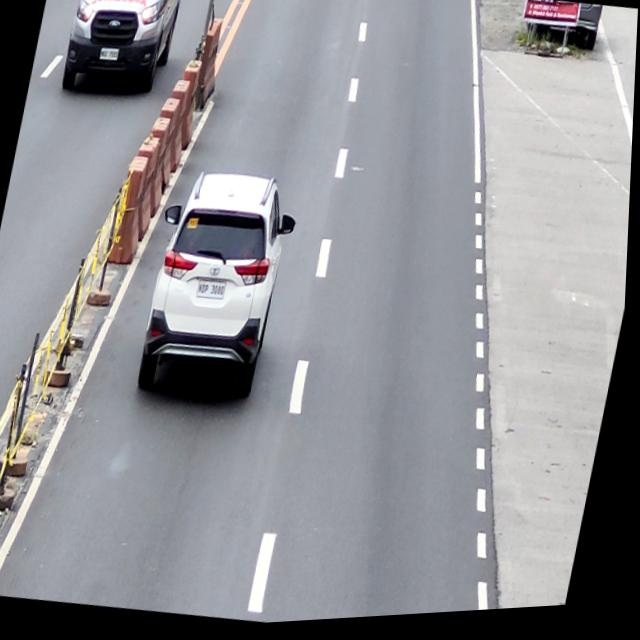Car: (131, 162, 307, 410)
License-Plate: (197, 281, 230, 305)
